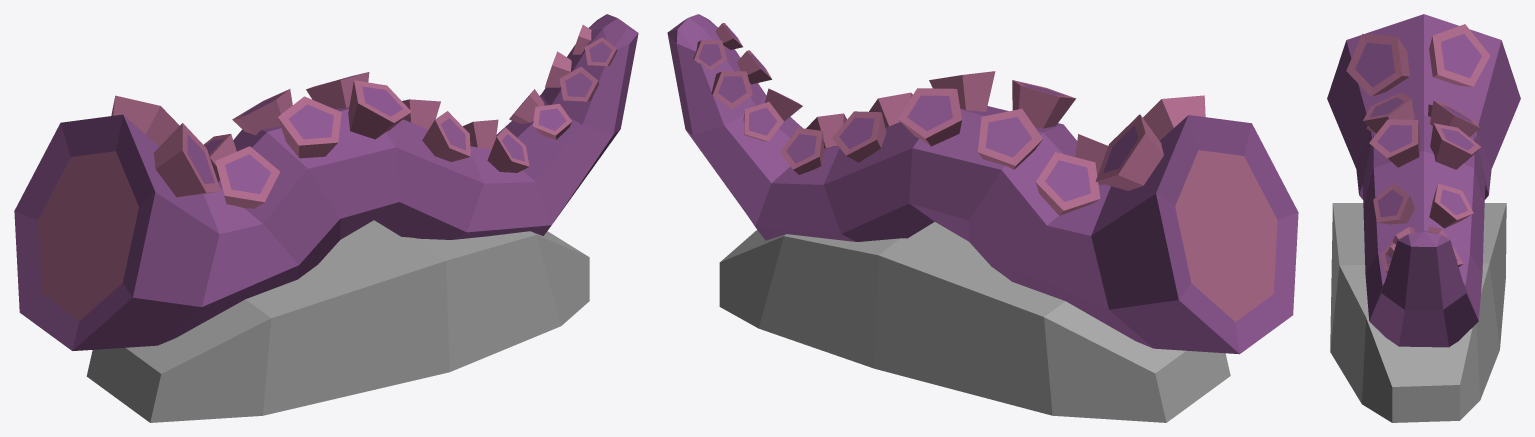
Rendered from Sushi_NigiriOctopus.glb.
3 renders of one model, left to right at view 1: azimuth 30°, elevation 25°; view 2: azimuth 150°, elevation 25°; view 3: azimuth 270°, elevation 25°, orthographic. The views are drawn at different scales.
Visible parts, largest first — view 1: Sushi_NigiriOctopus; view 2: Sushi_NigiriOctopus; view 3: Sushi_NigiriOctopus.
Part boxes in pixels (x1=…): Sushi_NigiriOctopus: x1=14, y1=14, x2=638, y2=422; Sushi_NigiriOctopus: x1=667, y1=14, x2=1298, y2=422; Sushi_NigiriOctopus: x1=1327, y1=14, x2=1520, y2=422.
Size of the model in its own units: 0.1311 by 0.0603 by 0.046.
